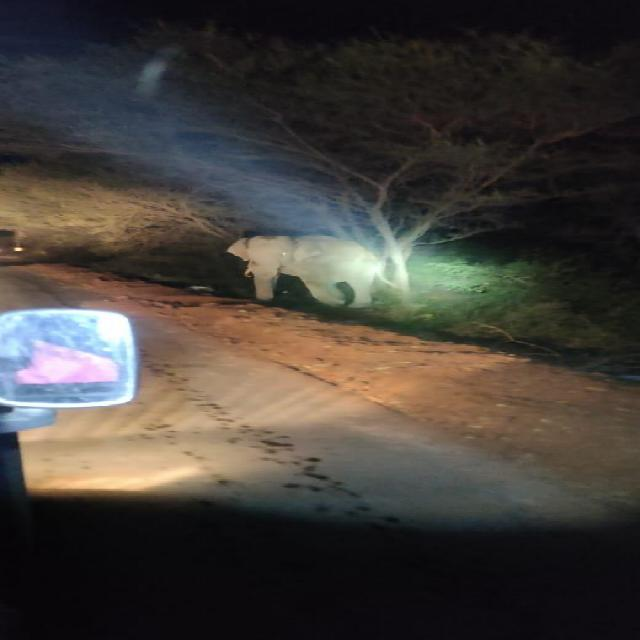Elephant: (225, 232, 382, 307)
